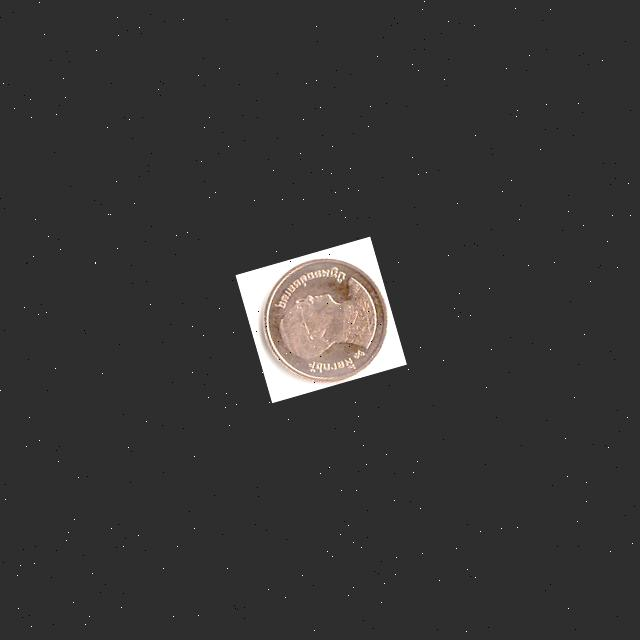25-satang: (234, 237, 406, 403)
